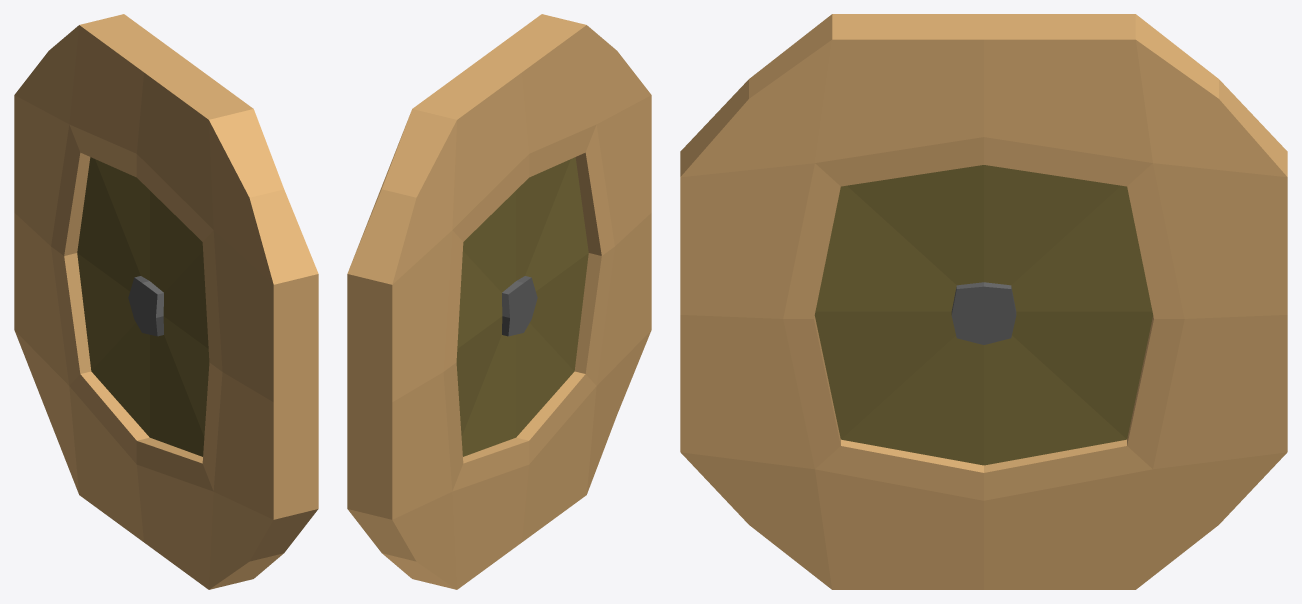
Rendered from TargetStone.fbx.
3 views of the same model, side by side, from view 1: azimuth 30°, elevation 25°; view 2: azimuth 150°, elevation 25°; view 3: azimuth 270°, elevation 25° (orthographic). The views are drawn at different scales.
Visible parts, largest first — view 1: Cube; view 2: Cube; view 3: Cube.
Part boxes in pixels (x1,y1,x2,y2): Cube: [14, 14, 318, 589]; Cube: [347, 14, 651, 589]; Cube: [680, 14, 1287, 589].
Bounding box in the file's own units: 34.17 × 258 × 258.
